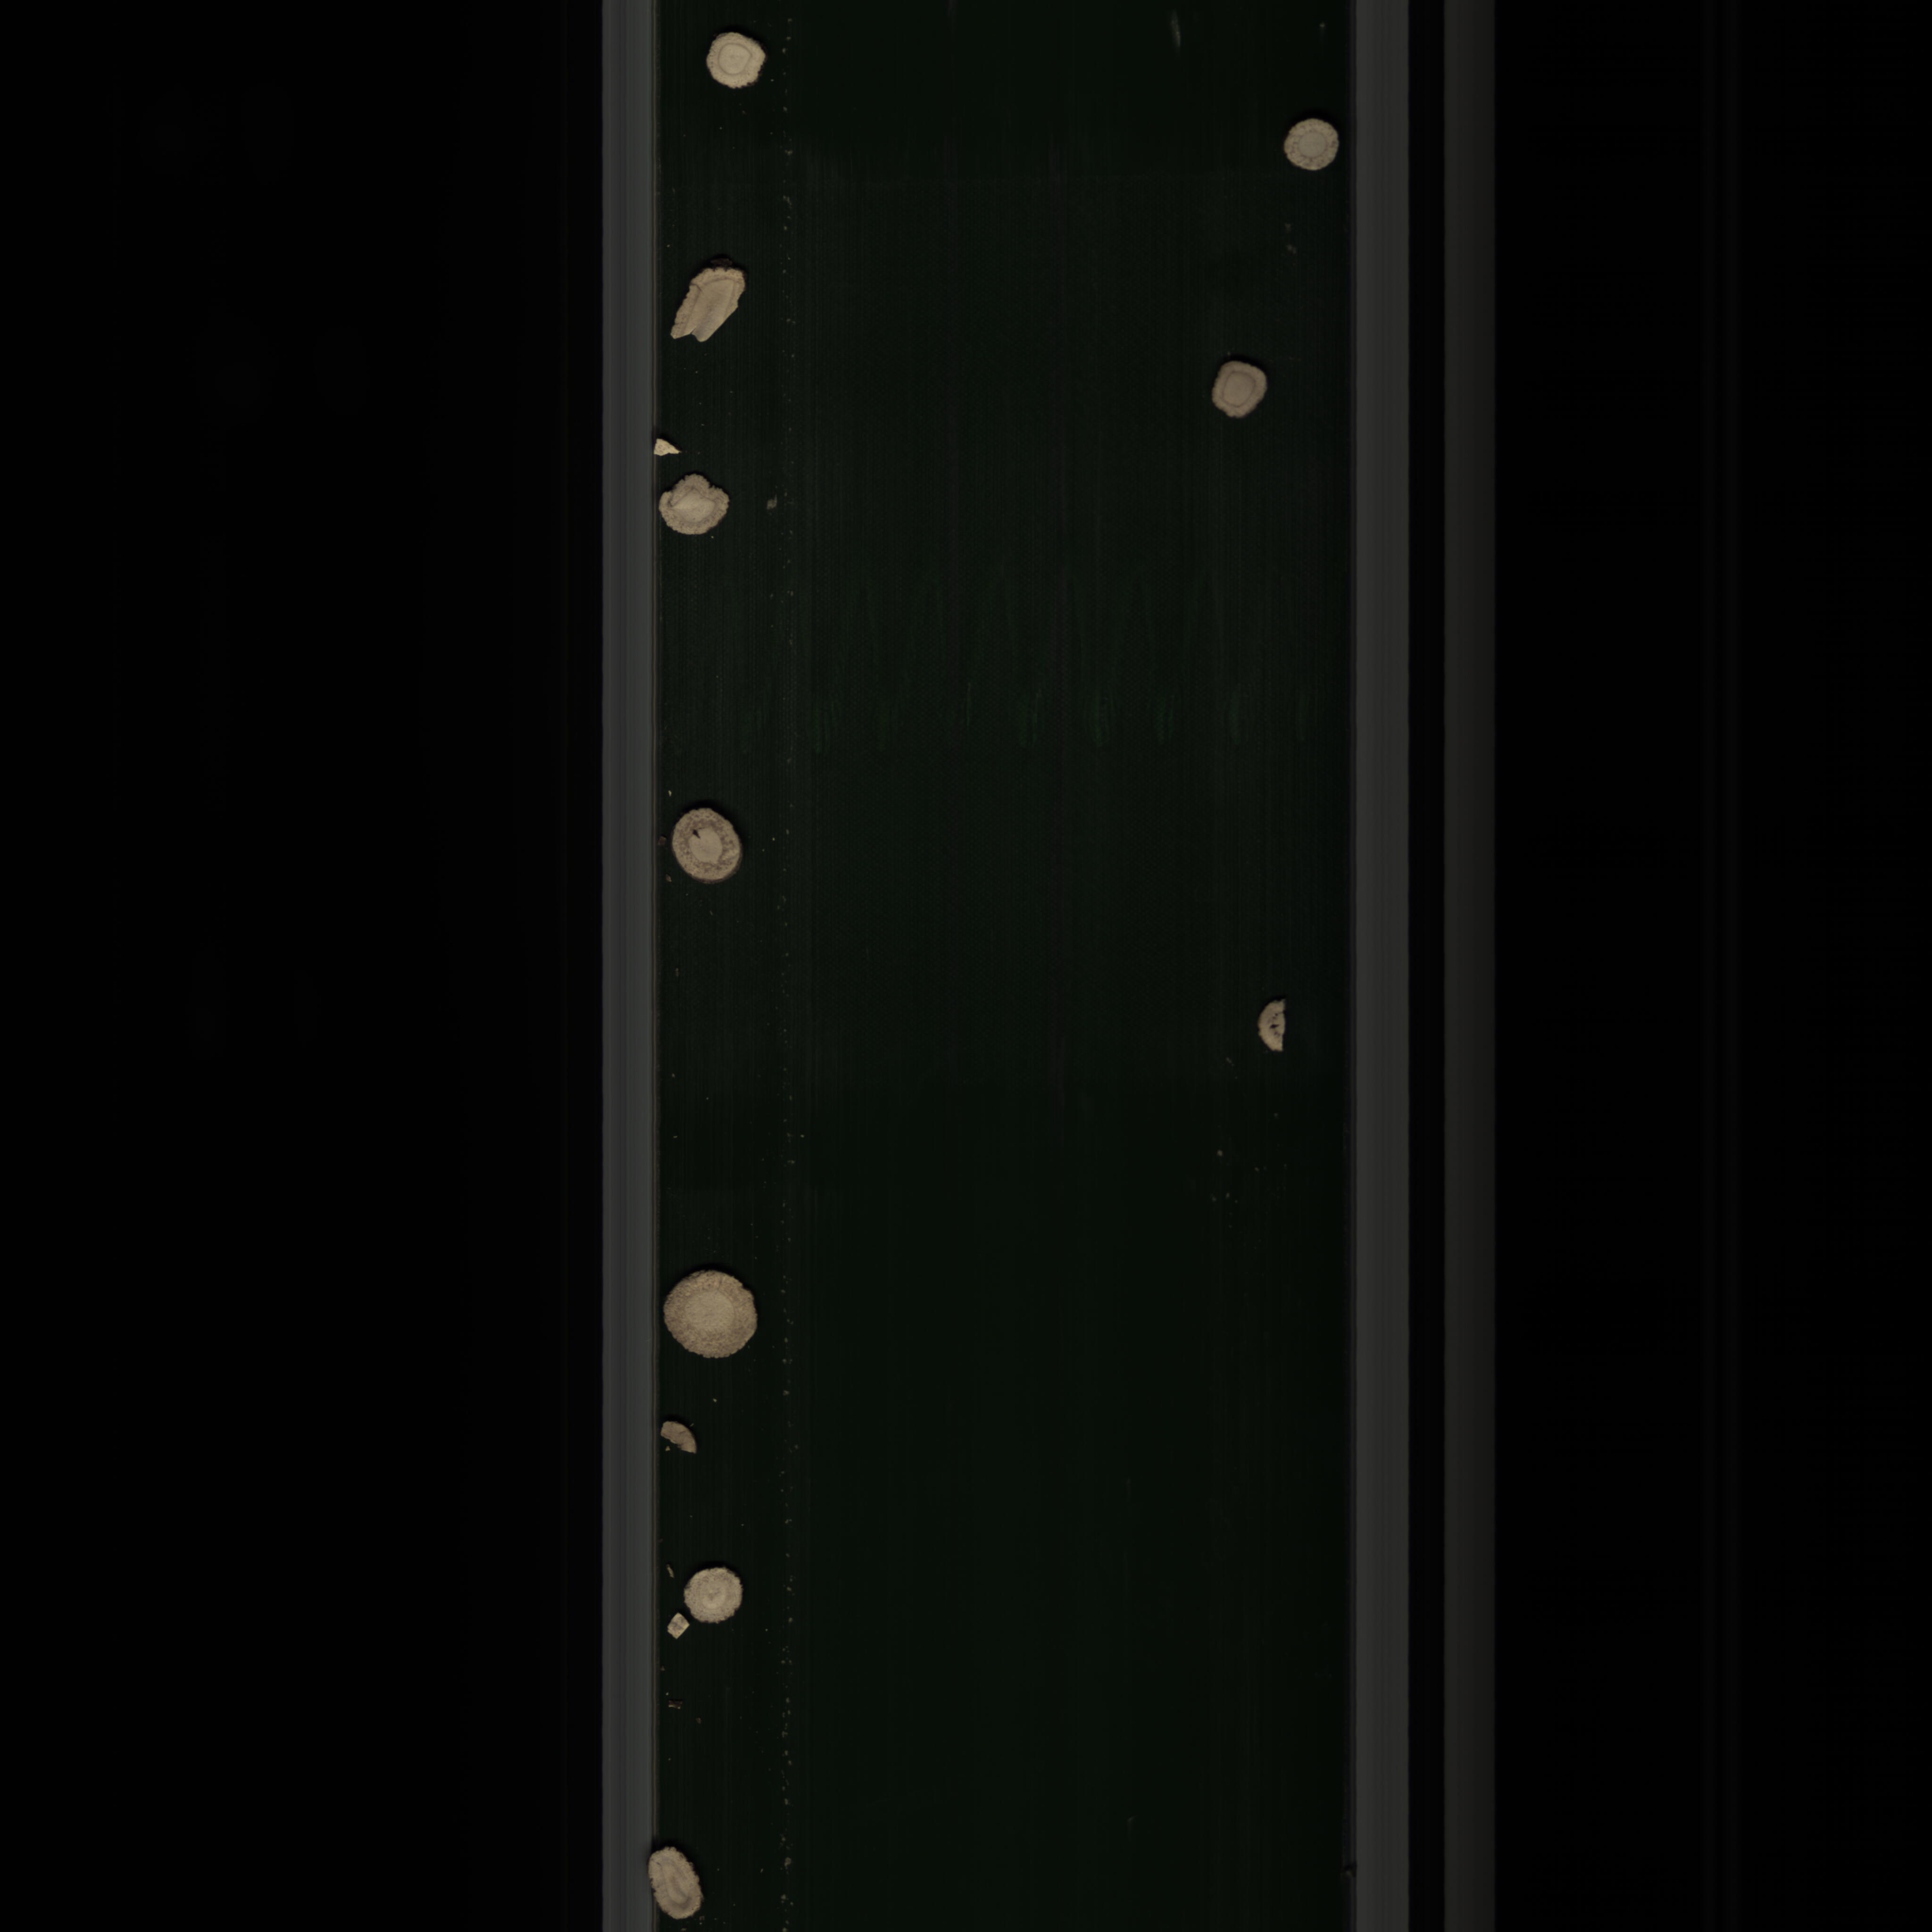debris: (1249, 991, 1295, 1058), (660, 1414, 701, 1465), (651, 433, 683, 465), (663, 1610, 694, 1642)
distortion: (665, 264, 761, 350), (656, 472, 738, 543)
hole: (667, 794, 750, 890)
